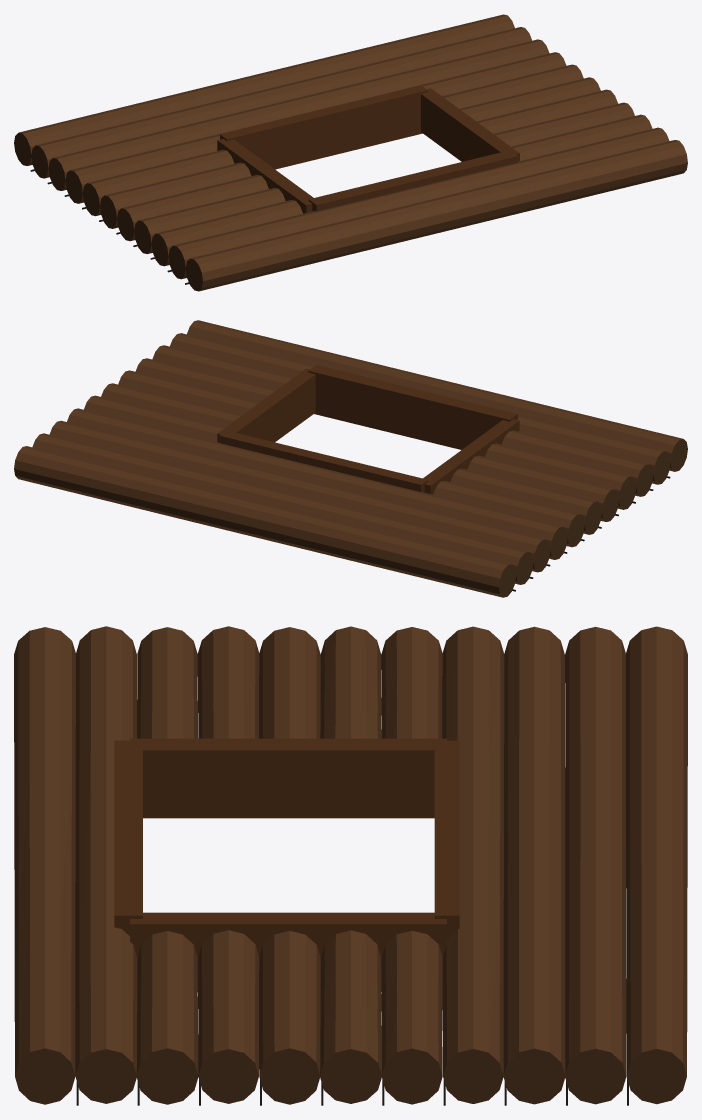
The model's file is SM_Izba_WallWindow_1348_LOD0.obj.
3 renders of one model, top to bottom at view 1: azimuth 30°, elevation 25°; view 2: azimuth 150°, elevation 25°; view 3: azimuth 270°, elevation 25°, orthographic. The views are drawn at different scales.
Parts seen in each view (by area): view 1: log_course_10, log_course_0, log_course_2, deep_window_sill, log_course_1, log_course_9, cutout_window_jamb, log_course_3, log_course_4, log_course_6, log_course_8, sawn_end (+3 smaller); view 2: log_course_0, lintel, log_course_2, log_course_1, log_course_3, log_course_10, cutout_window_jamb, log_course_9, log_course_4, log_course_6, sawn_end, log_course_8 (+3 smaller); view 3: cutout_window_jamb, sawn_end, log_course_2, log_course_0, log_course_10, log_course_1, log_course_3, log_course_9, log_course_5, log_course_6, log_course_7, log_course_4 (+3 smaller).
Part boxes in pixels (x1,y1,x2,y2): log_course_10: [190, 140, 687, 291]; log_course_0: [19, 14, 514, 165]; log_course_2: [53, 39, 549, 190]; deep_window_sill: [220, 85, 428, 169]; log_course_1: [36, 27, 531, 178]; log_course_9: [173, 127, 669, 278]; cutout_window_jamb: [217, 88, 519, 213]; log_course_3: [70, 52, 566, 203]; log_course_4: [87, 64, 583, 215]; log_course_6: [122, 89, 617, 241]; log_course_8: [156, 114, 652, 266]; sawn_end: [14, 132, 202, 291]; log_course_0: [14, 446, 511, 597]; lintel: [308, 365, 517, 449]; log_course_2: [49, 420, 545, 572]; log_course_1: [32, 433, 528, 584]; log_course_3: [67, 408, 562, 559]; log_course_10: [187, 320, 682, 471]; cutout_window_jamb: [217, 368, 519, 494]; log_course_9: [170, 333, 665, 484]; log_course_4: [84, 395, 580, 546]; log_course_6: [118, 370, 614, 521]; sawn_end: [499, 439, 687, 597]; log_course_8: [152, 345, 648, 496]; cutout_window_jamb: [130, 738, 446, 991]; sawn_end: [15, 1048, 686, 1104]; log_course_2: [503, 626, 565, 1074]; log_course_0: [626, 626, 687, 1075]; log_course_10: [14, 627, 75, 1075]; log_course_1: [565, 626, 626, 1075]; log_course_3: [442, 626, 504, 1075]; log_course_9: [75, 626, 137, 1075]; log_course_5: [320, 626, 381, 1074]; log_course_6: [259, 627, 320, 1075]; log_course_7: [197, 626, 259, 1075]; log_course_4: [381, 627, 442, 1075].
Size of the model in its own units: 4 by 0.33 by 2.7.
